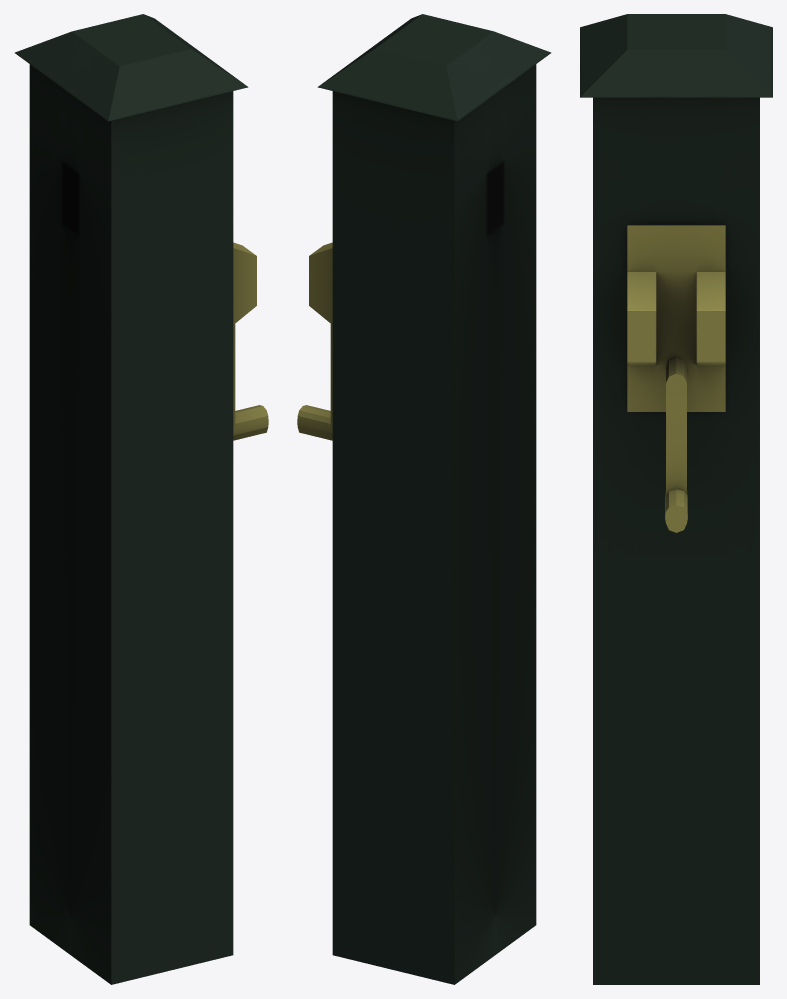
File: tennisPole_R.fbx
The picture shows the model from 3 angles, left to right: view 1: azimuth 30°, elevation 25°; view 2: azimuth 150°, elevation 25°; view 3: azimuth 270°, elevation 25°; orthographic projection. The views are drawn at different scales.
Visible parts, largest first — view 1: TennisNetPole.001; view 2: TennisNetPole.001; view 3: TennisNetPole.001.
Part boxes in pixels (<box>): TennisNetPole.001: <box>14,14,268,984</box>; TennisNetPole.001: <box>297,14,551,984</box>; TennisNetPole.001: <box>580,14,772,984</box>.
Bounding box in the file's own units: 0.3349 × 1.43 × 0.2701.
